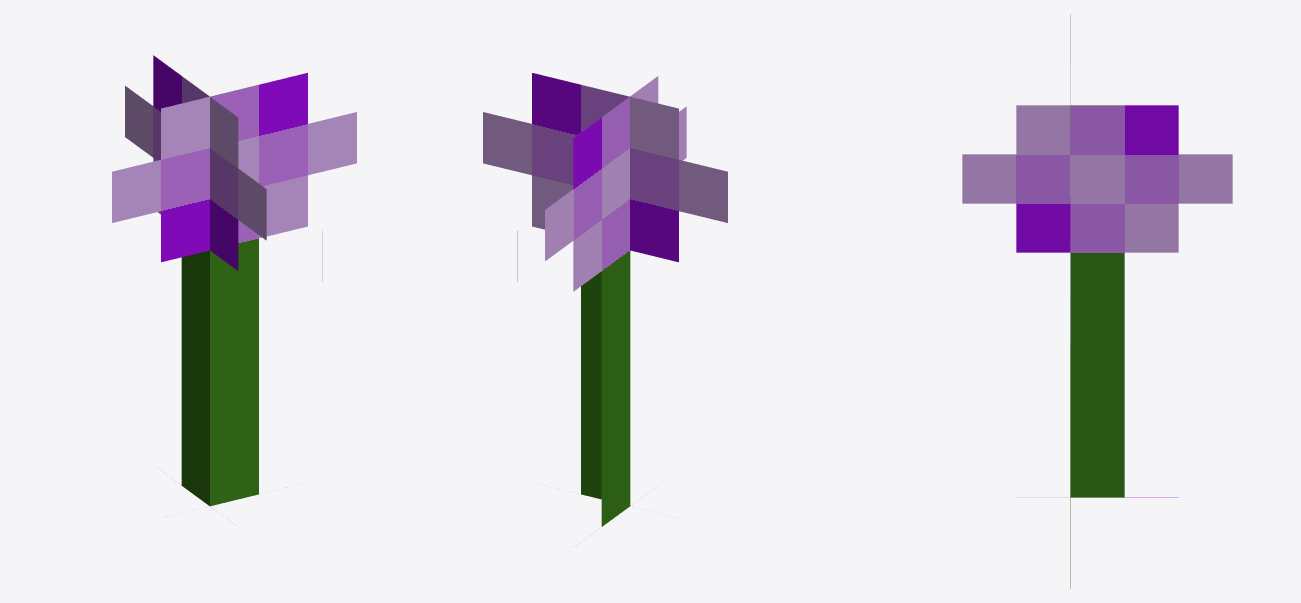
Rendered from Flower_Purple.fbx.
The picture shows the model from 3 angles, left to right: view 1: azimuth 30°, elevation 25°; view 2: azimuth 150°, elevation 25°; view 3: azimuth 270°, elevation 25°; orthographic projection. The views are drawn at different scales.
Visible parts, largest first — view 1: Cube.3986; view 2: Cube.3986; view 3: Cube.3986.
Boxes of the visible parts, left/top/right/bottom form: Cube.3986: left=112, top=55, right=356, bottom=525; Cube.3986: left=483, top=73, right=727, bottom=545; Cube.3986: left=962, top=14, right=1232, bottom=588.
Bounding box in the file's own units: 200 × 200 × 200.
Materials: 1 (1 with a texture image).
